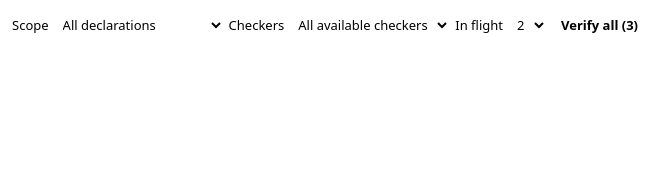
Test: project verification toolbar › can verify local declarations with the kernel only
Select "Local declarations only" in the dropdown named "Verification scope" at (138,25), box [53,12,224,38]
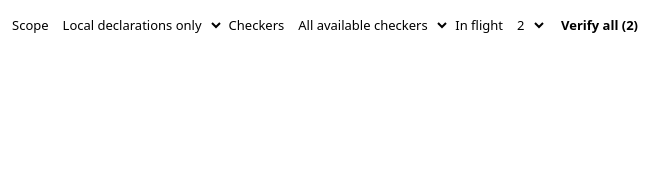
Select "Kernel only" in the dropdown named "Verification checkers" at (369,25), box [288,12,450,38]
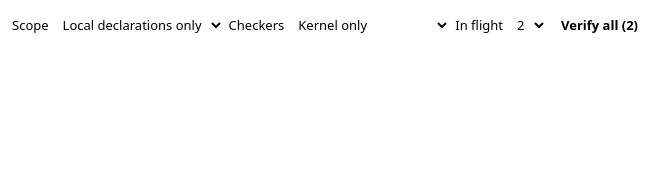
Click the button "Verify all (2)" at (600,25), box [552,13,647,37]
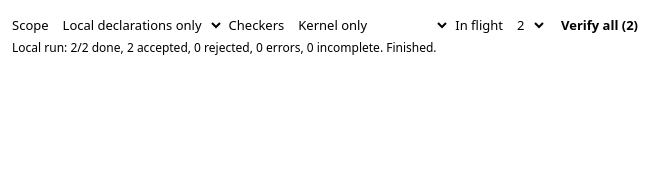
expect the text "Local run: 2/2 done, 2 accepted, 0 rejected, 0 errors, 0 incomplete. Finished." is shown: met, box [12,39,437,56]
